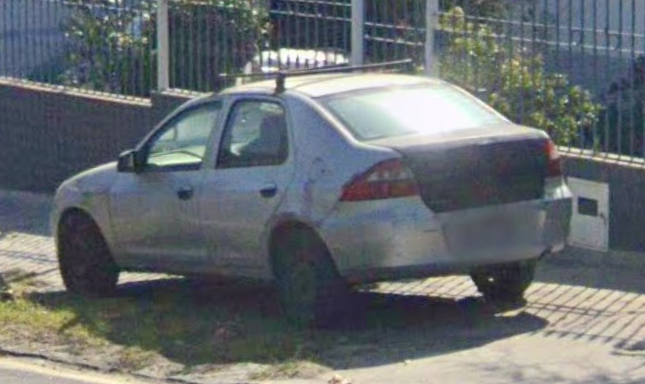car: (51, 70, 573, 322)
